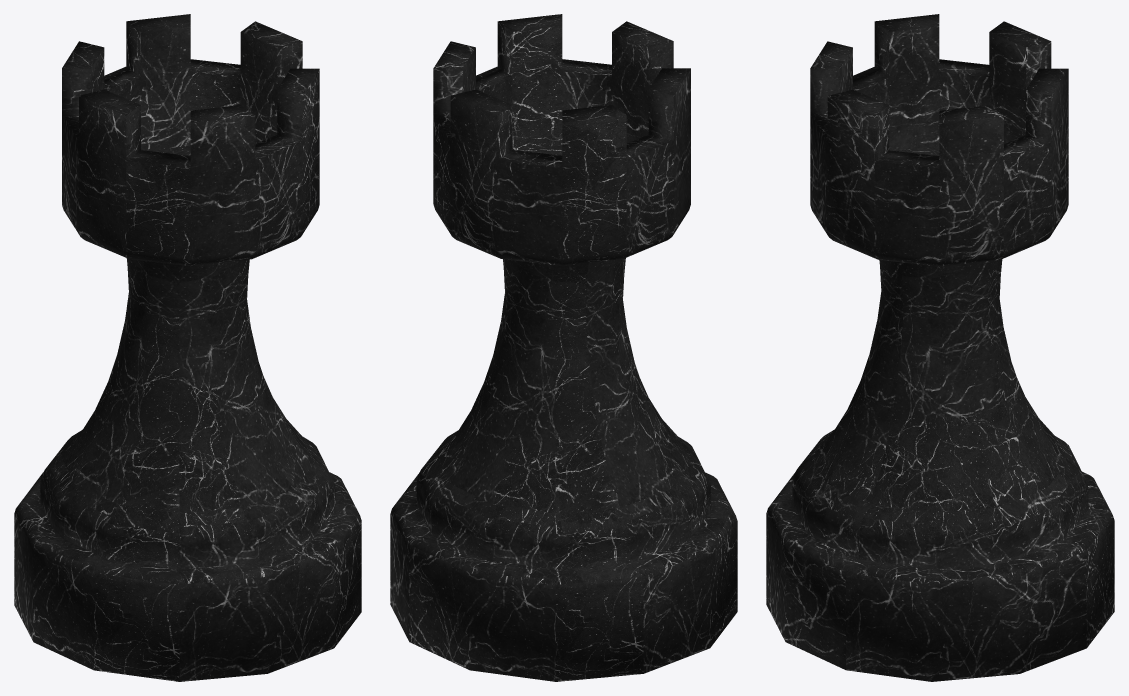
The model's file is TorreNegro.glb.
The picture shows the model from 3 angles, left to right: view 1: azimuth 30°, elevation 25°; view 2: azimuth 150°, elevation 25°; view 3: azimuth 270°, elevation 25°; orthographic projection.
Visible parts, largest first — view 1: Torre; view 2: Torre; view 3: Torre.
Part boxes in pixels (left/top/right/bottom): Torre: left=14, top=14, right=361, bottom=681; Torre: left=390, top=14, right=737, bottom=681; Torre: left=766, top=14, right=1114, bottom=681.
Bounding box in the file's own units: 0.7033 × 1.21 × 0.7033.
1 material, 1 textured.
